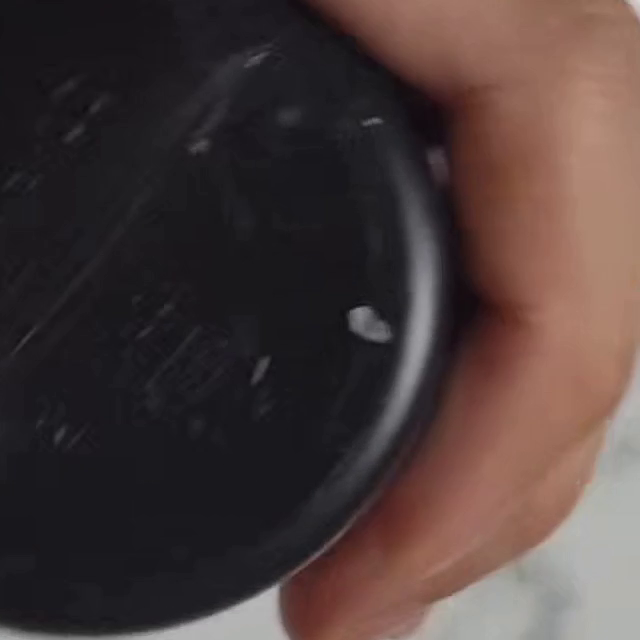Plastic: (135, 314, 268, 444)
